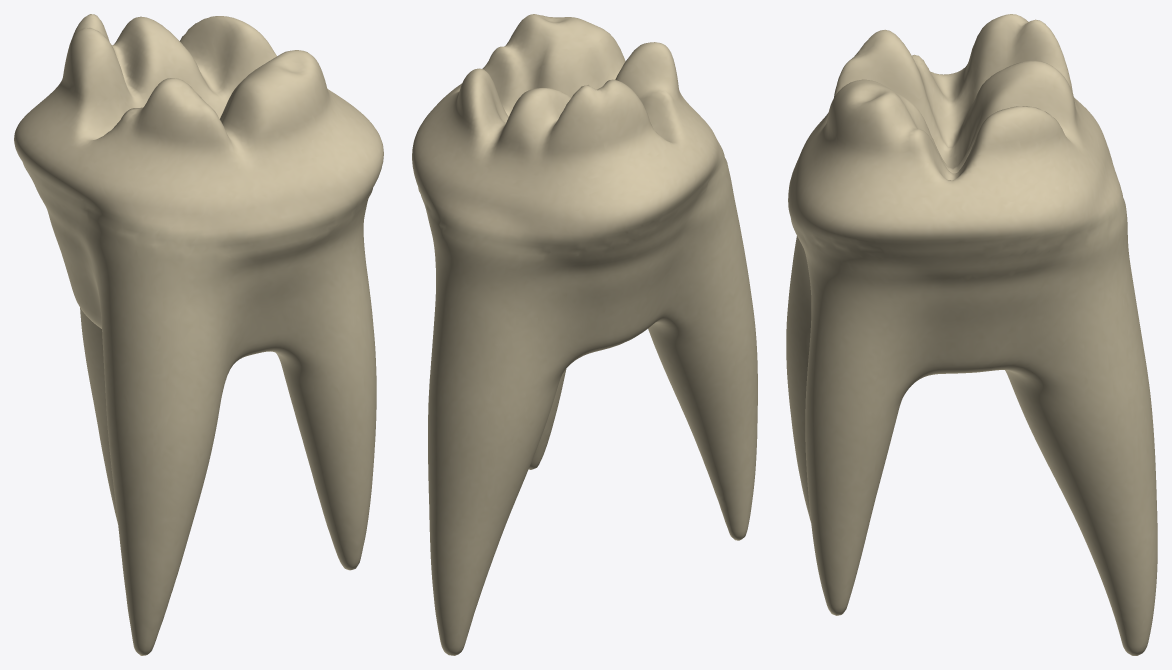
The model's file is dentin.glb.
The picture shows the model from 3 angles, left to right: view 1: azimuth 30°, elevation 25°; view 2: azimuth 150°, elevation 25°; view 3: azimuth 270°, elevation 25°; orthographic projection. The views are drawn at different scales.
Visible parts, largest first — view 1: dentin; view 2: dentin; view 3: dentin.
Part boxes in pixels (x1,y1,x2,y2): dentin: (14,14,383,655); dentin: (412,14,757,655); dentin: (786,14,1157,655).
Size of the model in its own units: 9.63 by 18.82 by 10.73.
